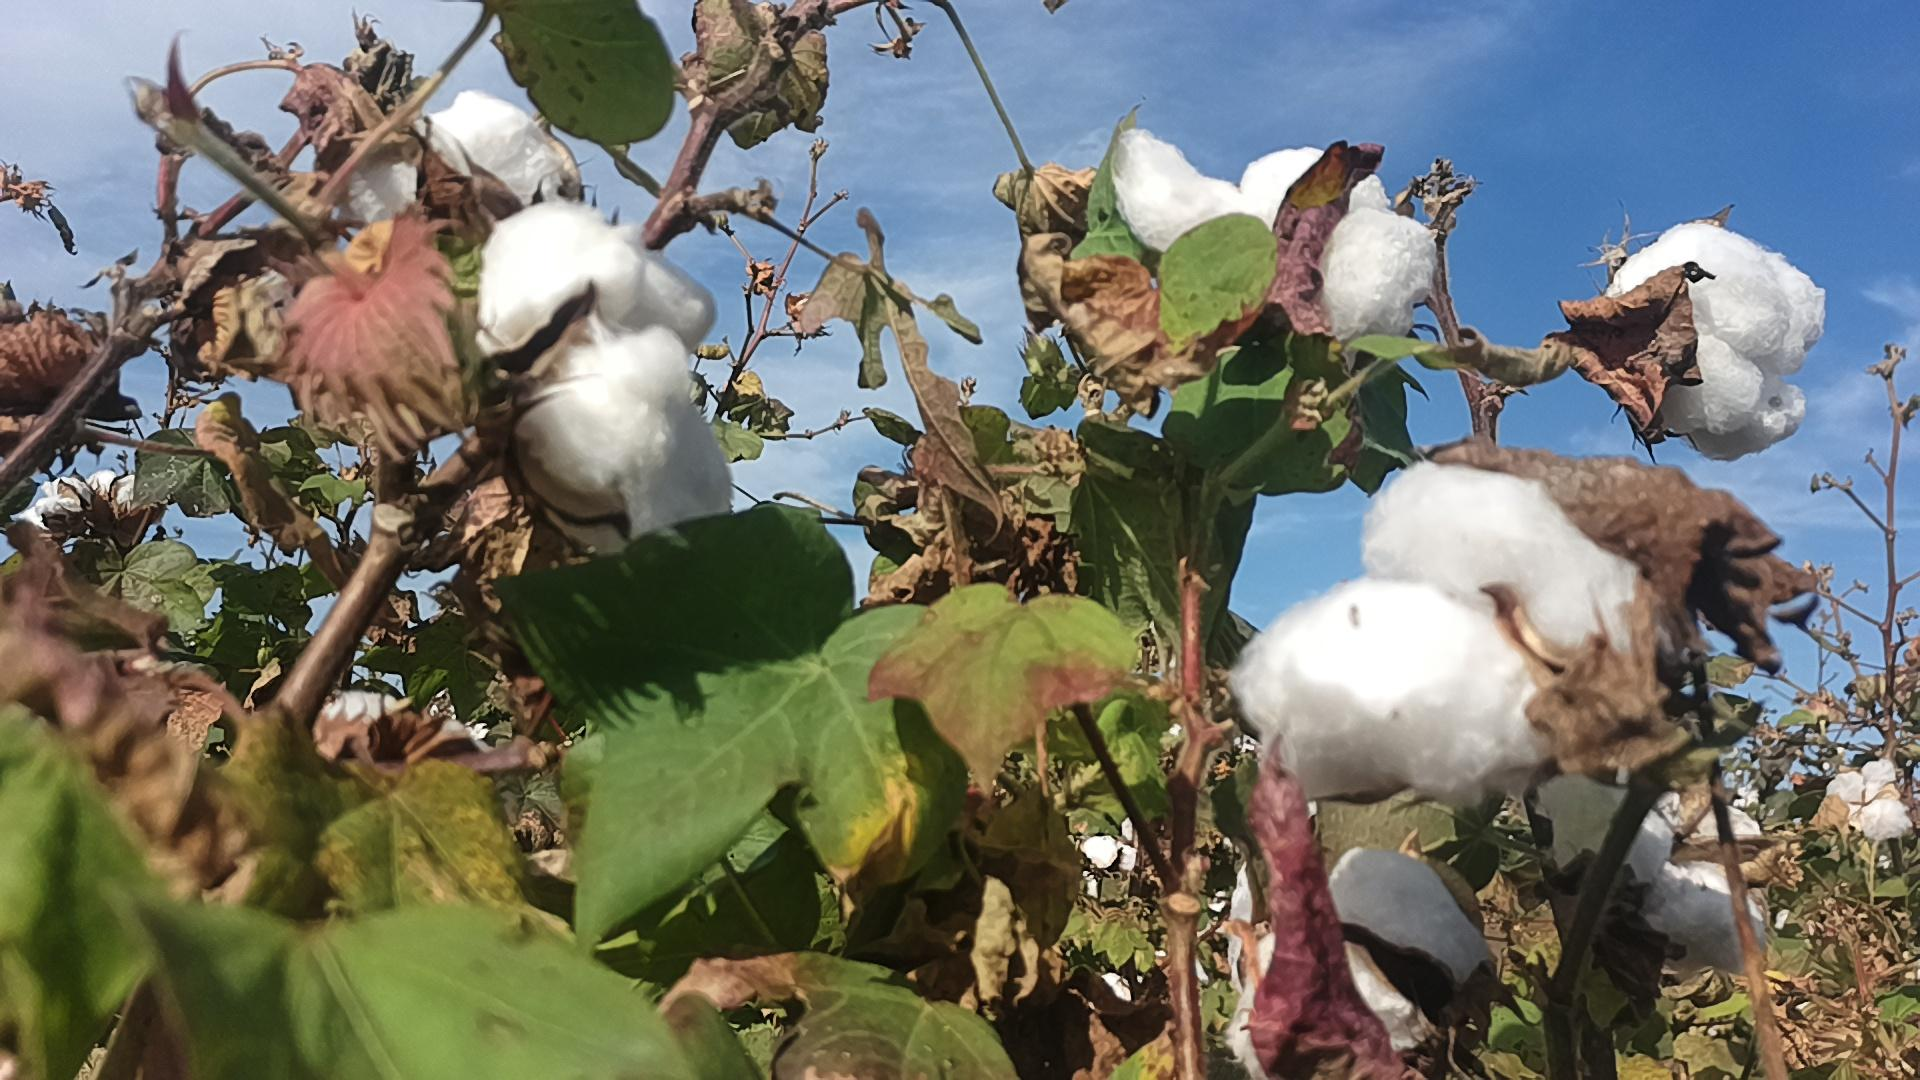cotton_ready: (1238, 467, 1650, 806), (1110, 132, 1445, 365), (1225, 840, 1498, 1080), (1585, 225, 1825, 465), (504, 327, 736, 537), (340, 90, 582, 253), (471, 202, 717, 359), (1545, 781, 1763, 952), (1818, 757, 1908, 845)
